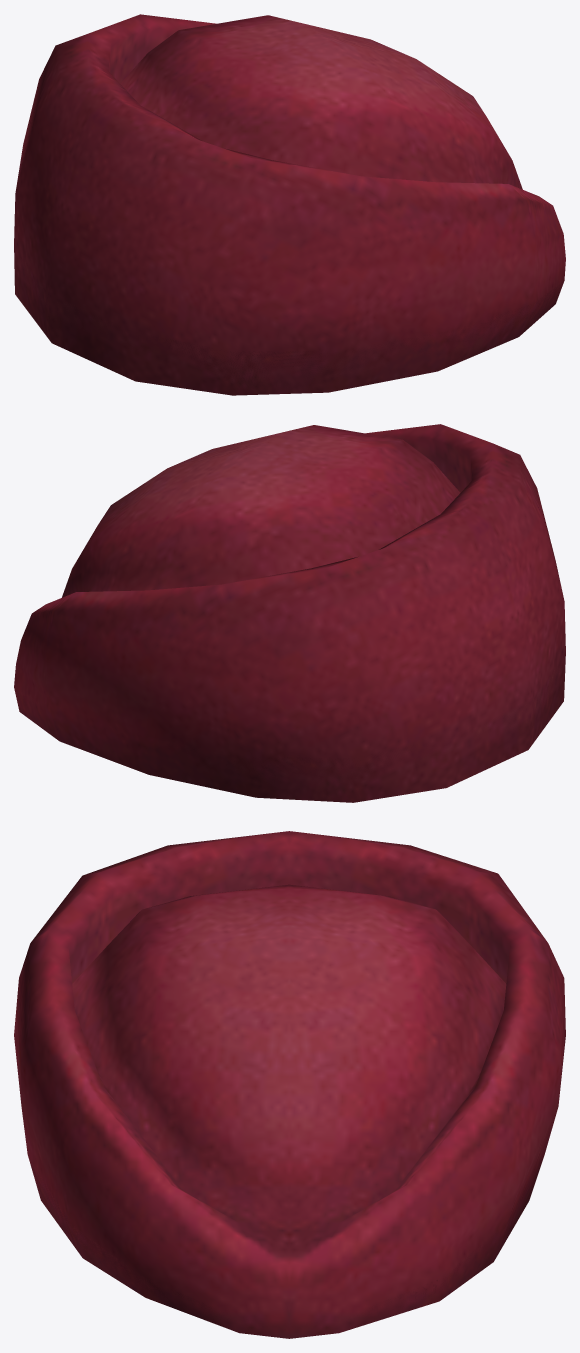
The model's file is hat_0450049.FBX.
3 renders of one model, top to bottom at view 1: azimuth 30°, elevation 25°; view 2: azimuth 150°, elevation 25°; view 3: azimuth 270°, elevation 25°, orthographic. The views are drawn at different scales.
Visible parts, largest first — view 1: hat_0450049; view 2: hat_0450049; view 3: hat_0450049.
Boxes of the visible parts, left/top/right/bottom form: hat_0450049: left=14, top=14, right=565, bottom=395; hat_0450049: left=14, top=424, right=565, bottom=802; hat_0450049: left=14, top=831, right=565, bottom=1338.
Bounding box in the file's own units: 25.19 × 13.13 × 22.54.
